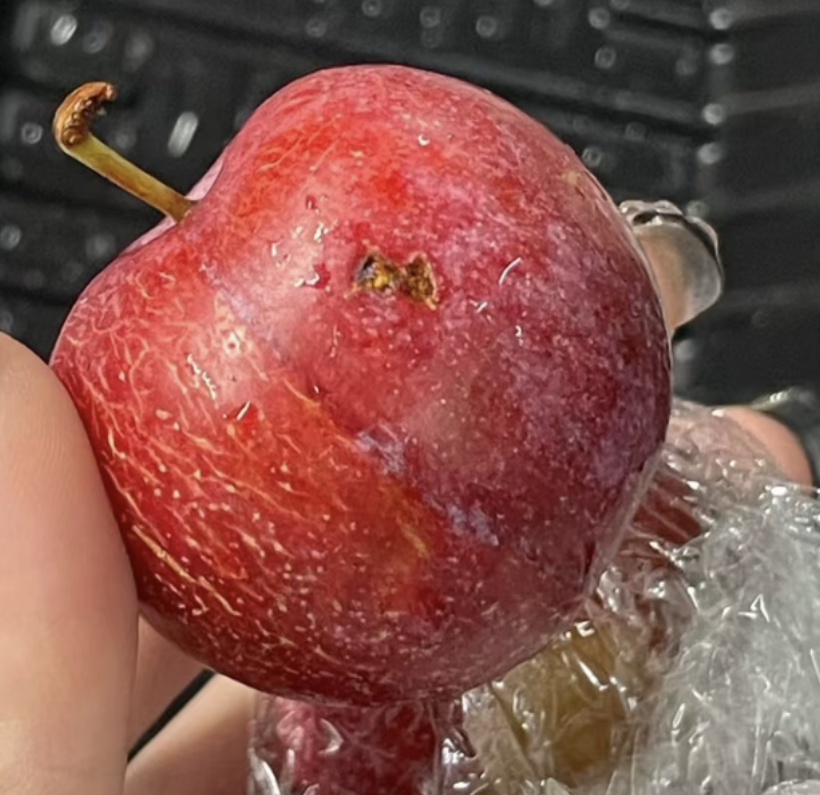plum_C: (47, 61, 665, 710)
